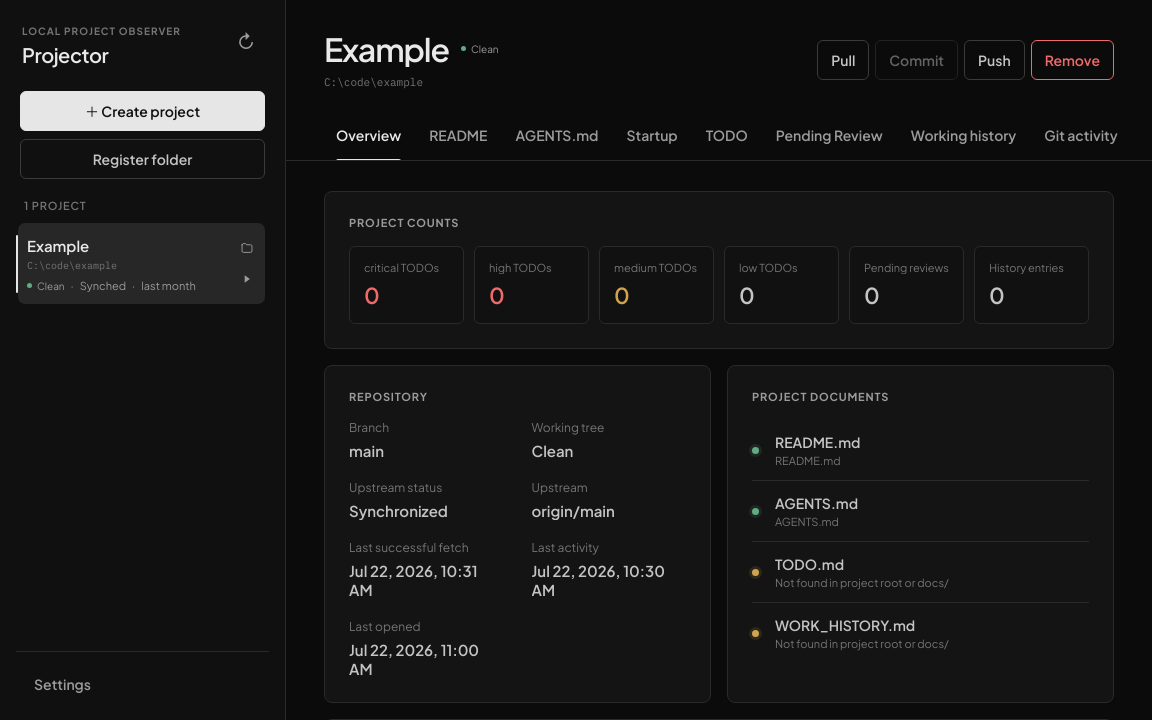
App › opens a registered project and exposes its information tabs
Check: the heading "Example" is shown, box left=324, top=31, right=449, bottom=67
Check: the text "main" is shown, box left=349, top=441, right=384, bottom=460
Click the tab "AGENTS.md": [557, 136] box left=504, top=112, right=610, bottom=160
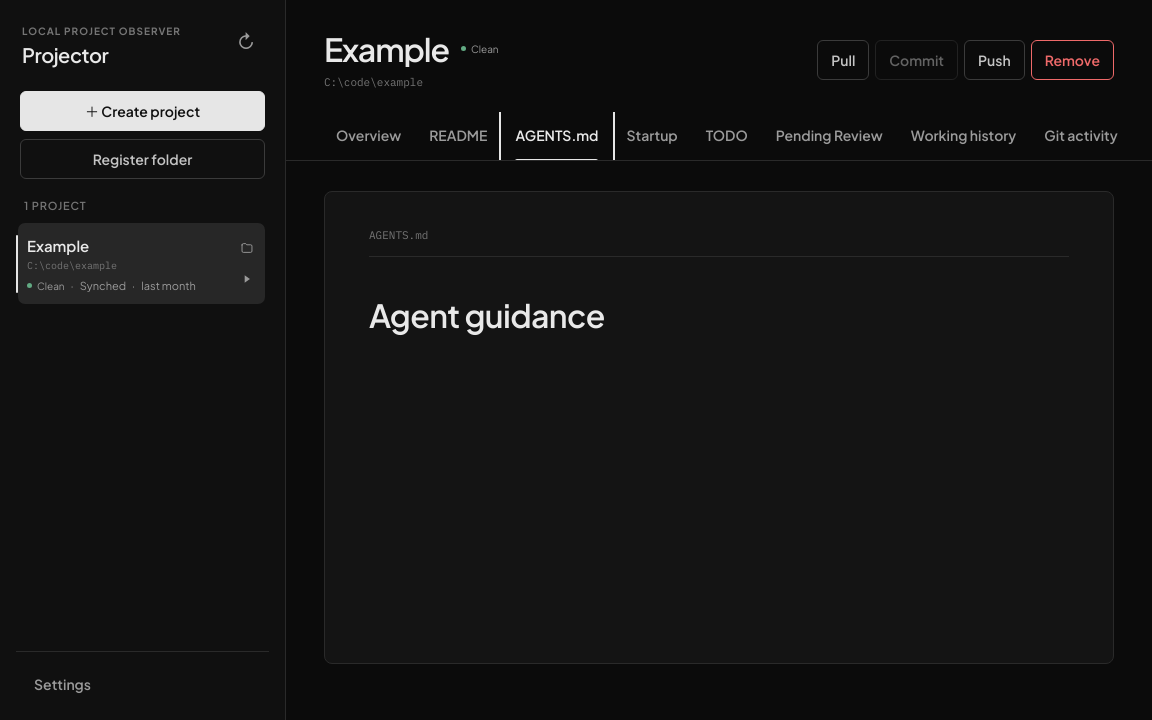
Check: the heading "Agent guidance" is shown, box left=369, top=295, right=605, bottom=335
Click the tab "Startup": [652, 136] box left=614, top=112, right=690, bottom=160
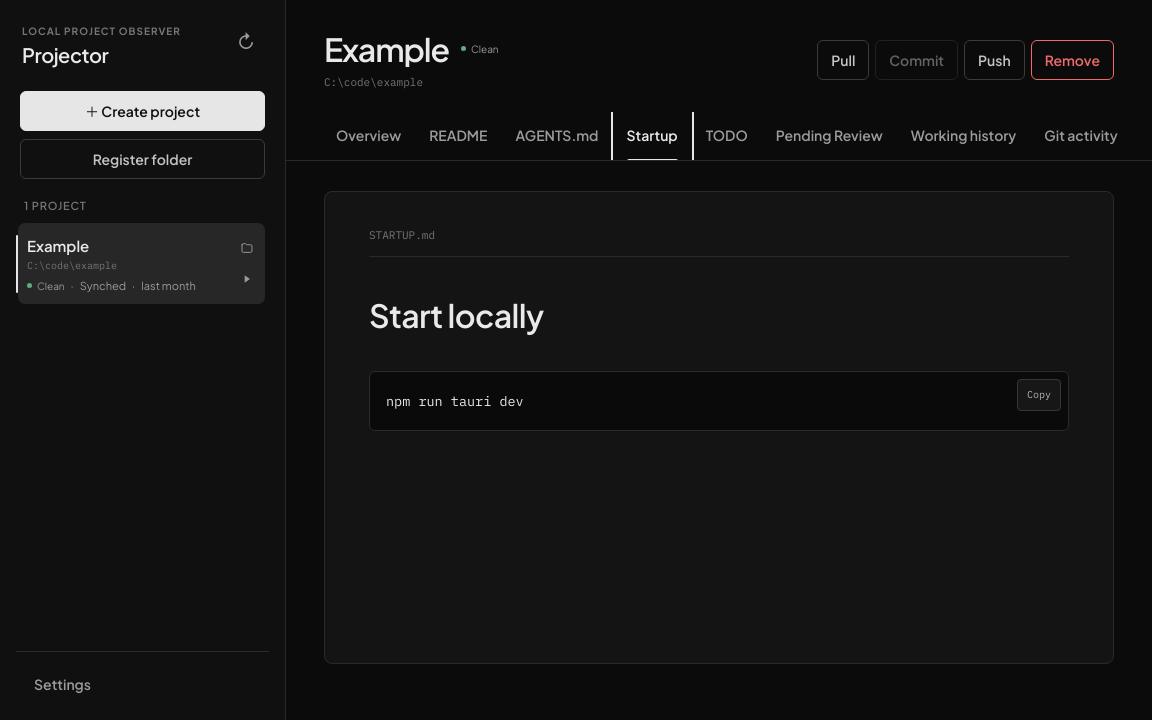
Check: the heading "Start locally" is shown, box left=369, top=295, right=544, bottom=335
Check: the text "npm run tauri dev" is shown, box left=386, top=392, right=524, bottom=410
Click the tab "TODO": [727, 136] box left=694, top=112, right=760, bottom=160
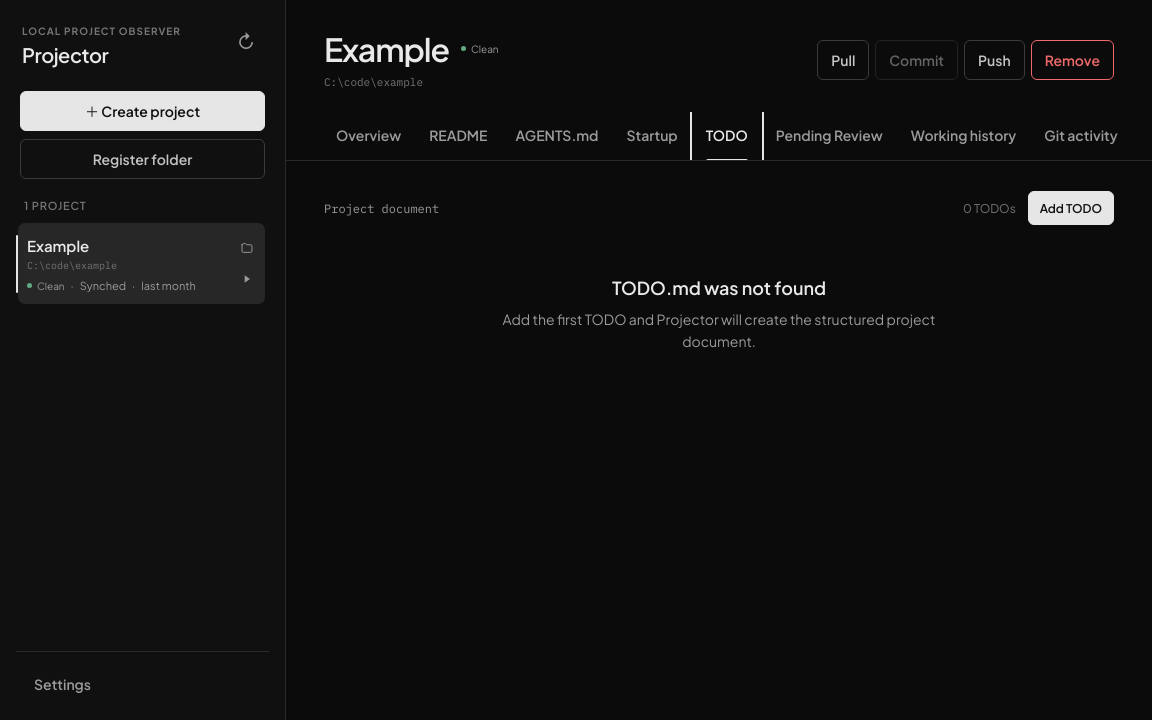
Check: the number of elements with class "tab-active-indicator" is 1, box left=706, top=159, right=748, bottom=161
Check: the heading "TODO.md was not found" is shown, box left=612, top=276, right=826, bottom=299
